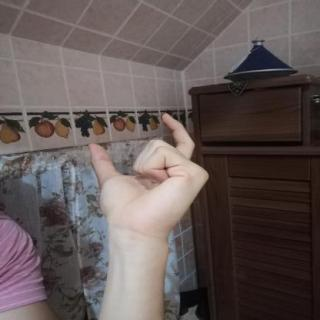NOON: (77, 104, 221, 246)
